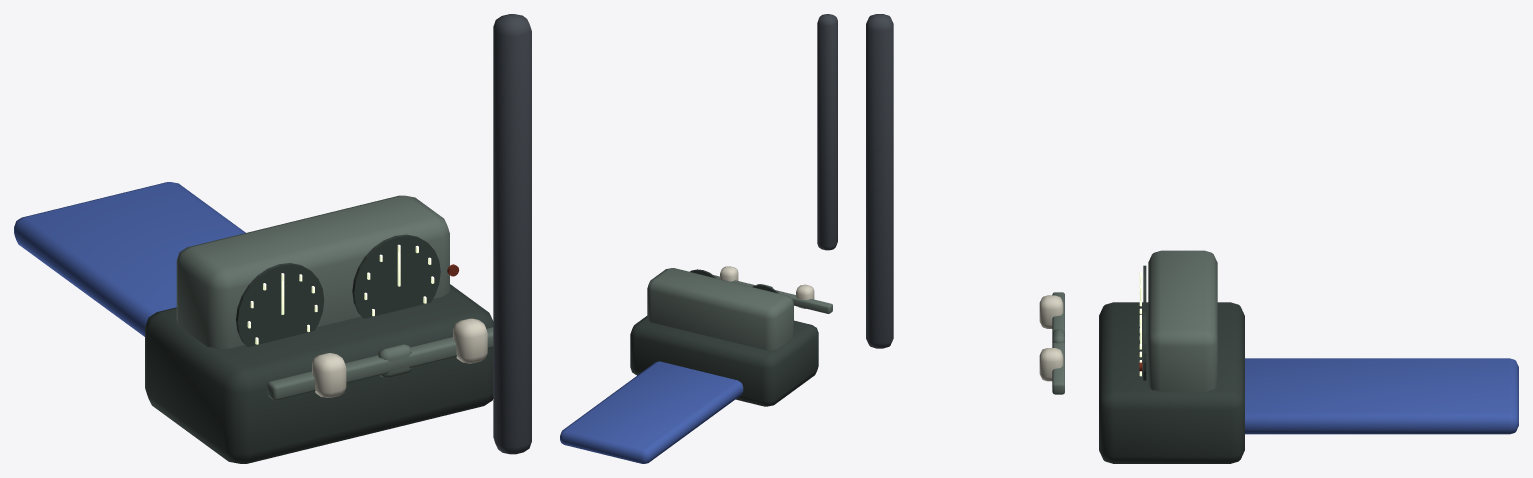
File: bike-cockpit.glb
3 views of the same model, side by side, from view 1: azimuth 30°, elevation 25°; view 2: azimuth 150°, elevation 25°; view 3: azimuth 270°, elevation 25° (orthographic). The views are drawn at different scales.
Parts seen in each view (by area): view 1: bike_clay_charcoal.009, instrument_binnacle, bonnet.005, arm_left_fore.005, bike_clay_trim.009, bike_clay_cream.009; view 2: bonnet.005, bike_clay_charcoal.009, instrument_binnacle, arm_left_fore.005, bike_clay_trim.009, bike_clay_cream.009; view 3: bonnet.005, bike_clay_charcoal.009, instrument_binnacle, arm_left_fore.005, bike_clay_cream.009, bike_clay_trim.009.
Boxes of the visible parts, <box> form: bike_clay_charcoal.009: <box>145,234,493,463</box>; instrument_binnacle: <box>176,195,449,349</box>; bonnet.005: <box>14,182,245,336</box>; arm_left_fore.005: <box>493,14,531,454</box>; bike_clay_trim.009: <box>267,327,493,400</box>; bike_clay_cream.009: <box>312,318,487,397</box>; bonnet.005: <box>560,361,743,463</box>; bike_clay_charcoal.009: <box>630,269,818,406</box>; instrument_binnacle: <box>647,268,793,350</box>; arm_left_fore.005: <box>817,14,837,250</box>; bike_clay_trim.009: <box>713,275,832,313</box>; bike_clay_cream.009: <box>720,266,814,308</box>; bonnet.005: <box>1245,358,1518,434</box>; bike_clay_charcoal.009: <box>1099,265,1244,463</box>; instrument_binnacle: <box>1148,250,1217,391</box>; arm_left_fore.005: <box>866,14,893,348</box>; bike_clay_cream.009: <box>1039,295,1063,381</box>; bike_clay_trim.009: <box>1052,292,1064,394</box>.
Size of the model in its own units: 0.65 by 1.22 by 1.79.
